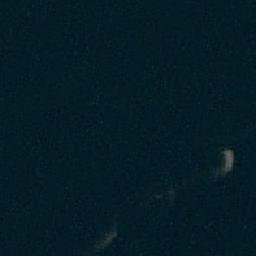debris: (218, 149, 234, 176)
